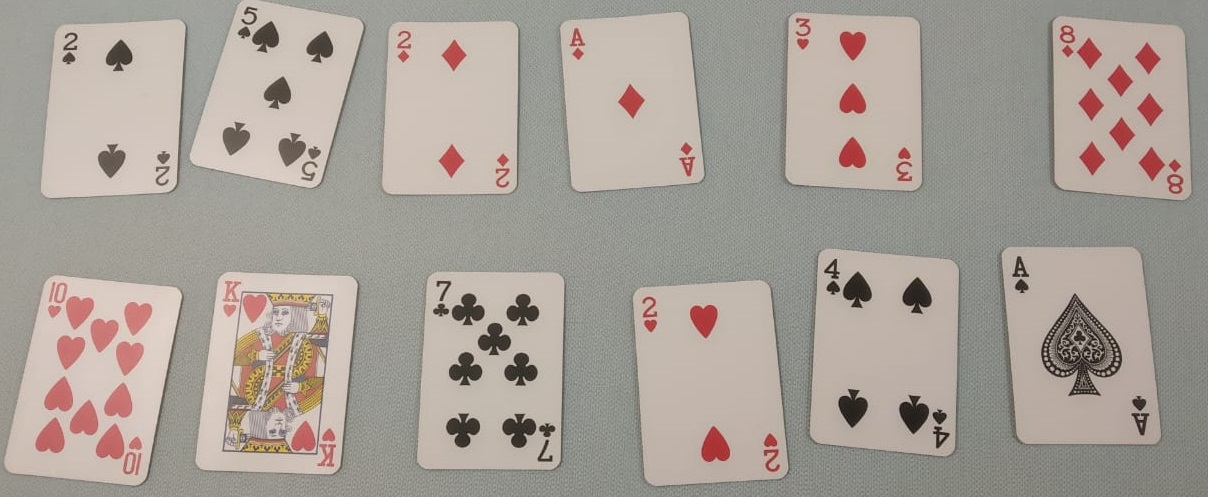ace: (981, 232, 1182, 464), (549, 4, 730, 221)
eight: (1040, 8, 1204, 211)
five: (192, 1, 372, 210)
four: (801, 234, 961, 473)
king: (192, 261, 365, 485)
seven: (396, 251, 583, 487)
ten: (6, 264, 187, 498)
three: (770, 11, 935, 217)
two: (619, 275, 798, 490), (374, 7, 541, 213), (29, 11, 192, 204)
